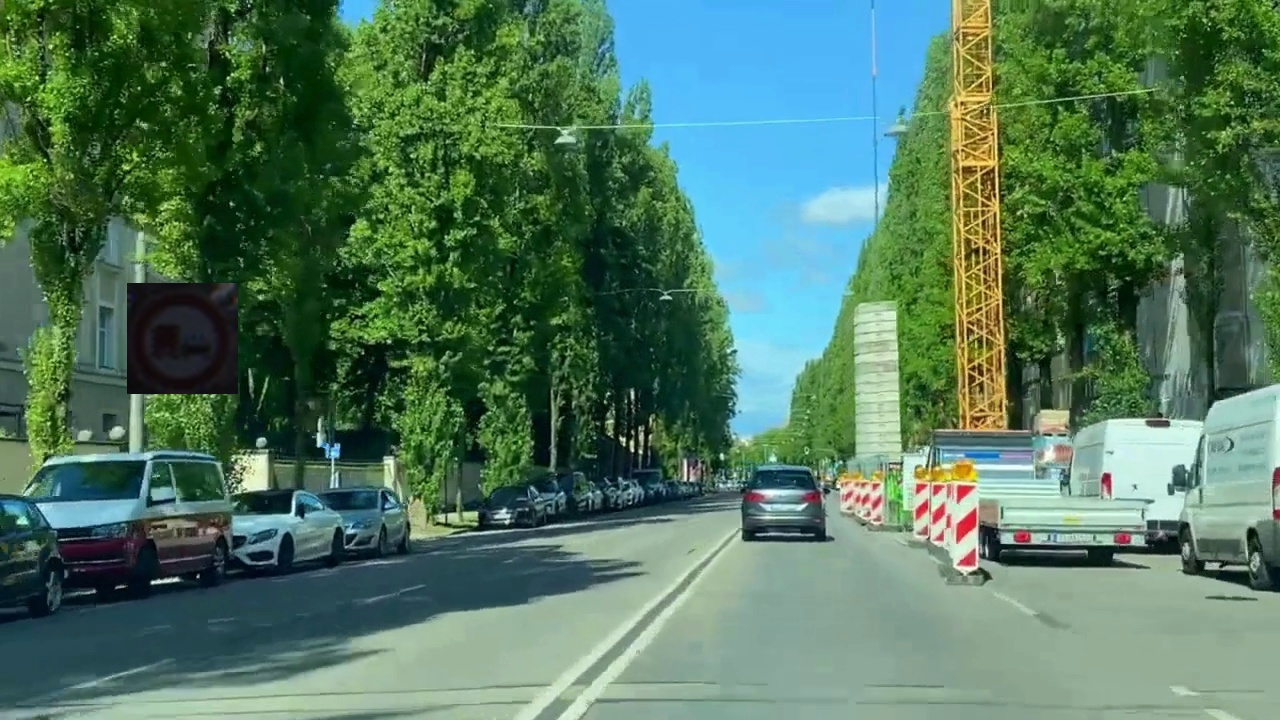No pass >3.5t: (127, 283, 238, 394)
